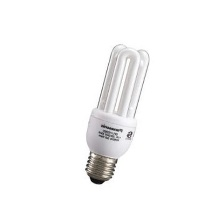light_bulb: (84, 41, 152, 187)
